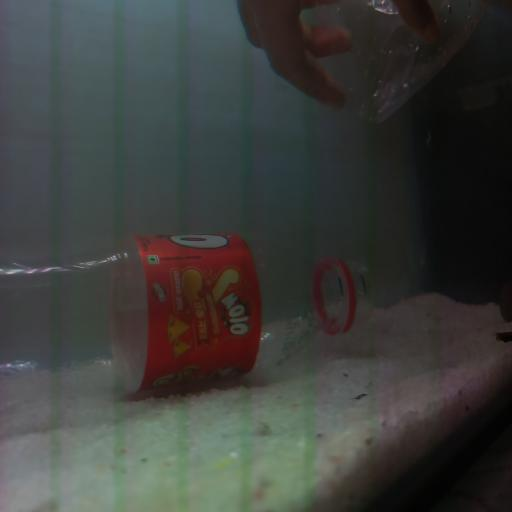plastic_bag: (313, 0, 512, 122)
plastic_bottle: (5, 235, 363, 397)
